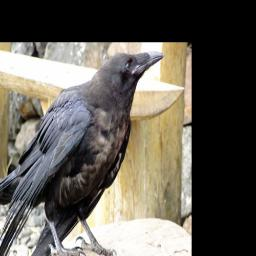Crow: (0, 50, 165, 256)
